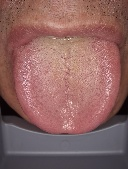tongue: (12, 47, 80, 136)
